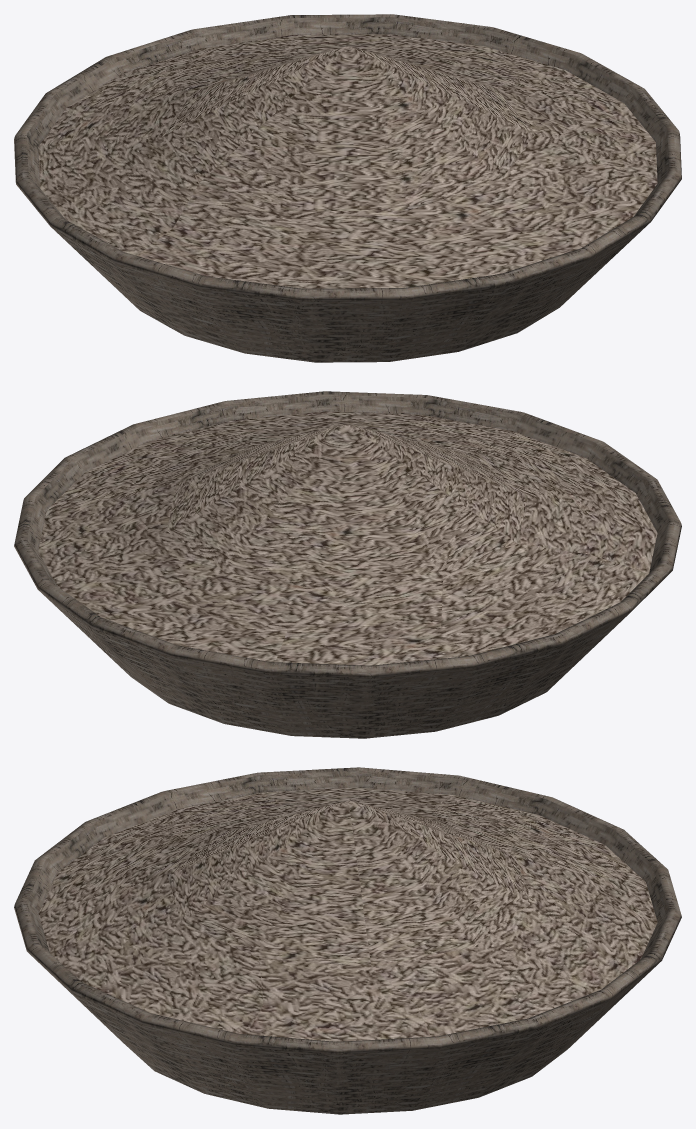
The model's file is Wicker_Basket_01_4.glb.
3 renders of one model, top to bottom at view 1: azimuth 30°, elevation 25°; view 2: azimuth 150°, elevation 25°; view 3: azimuth 270°, elevation 25°, orthographic.
Visible parts, largest first — view 1: Wicker_Basket_01.025; view 2: Wicker_Basket_01.025; view 3: Wicker_Basket_01.025.
Boxes of the visible parts, x1,y1,x2,y2 form: Wicker_Basket_01.025: [14, 14, 681, 362]; Wicker_Basket_01.025: [14, 391, 681, 738]; Wicker_Basket_01.025: [14, 767, 681, 1114].
Size of the model in its own units: 0.5535 by 0.1971 by 0.5535.
2 materials, 2 textured.
